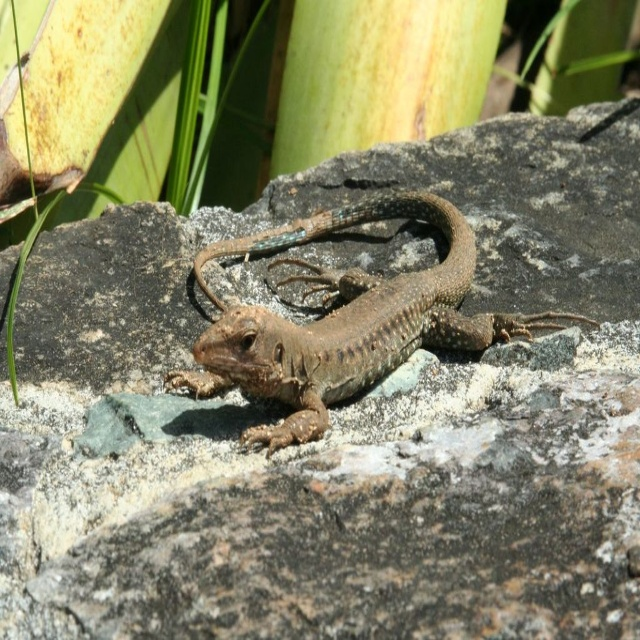Lizard: (164, 185, 556, 458)
